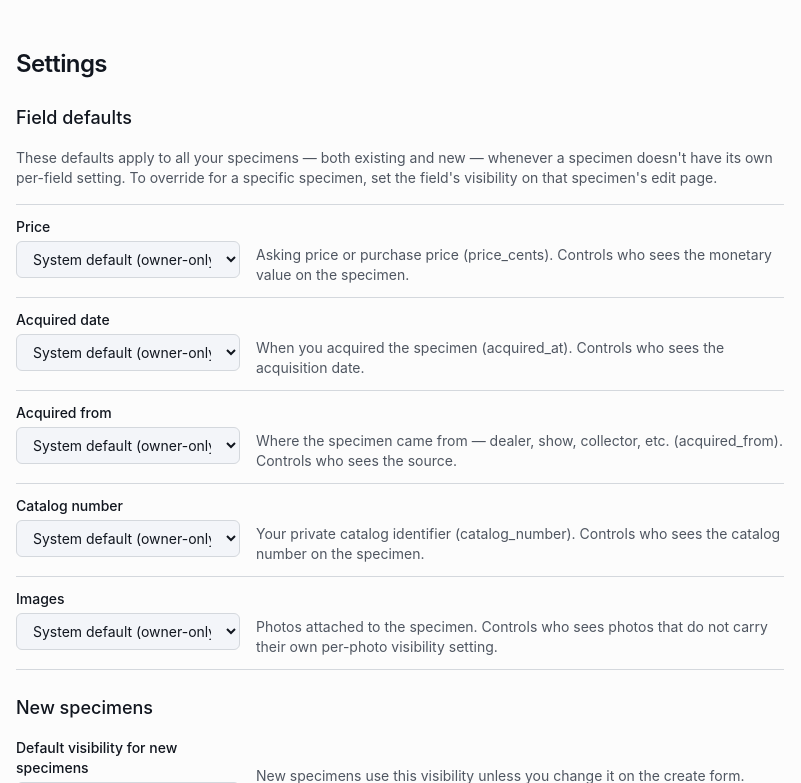
Settings route — field defaults › disables Save until a value changes, then PATCHes only the changed keys
The width and height of the screenshot is (801, 783).
Select "Public" in the dropdown with test id "settings-default-price" at (128, 260), box [16,241,240,278]
(page scrolled)
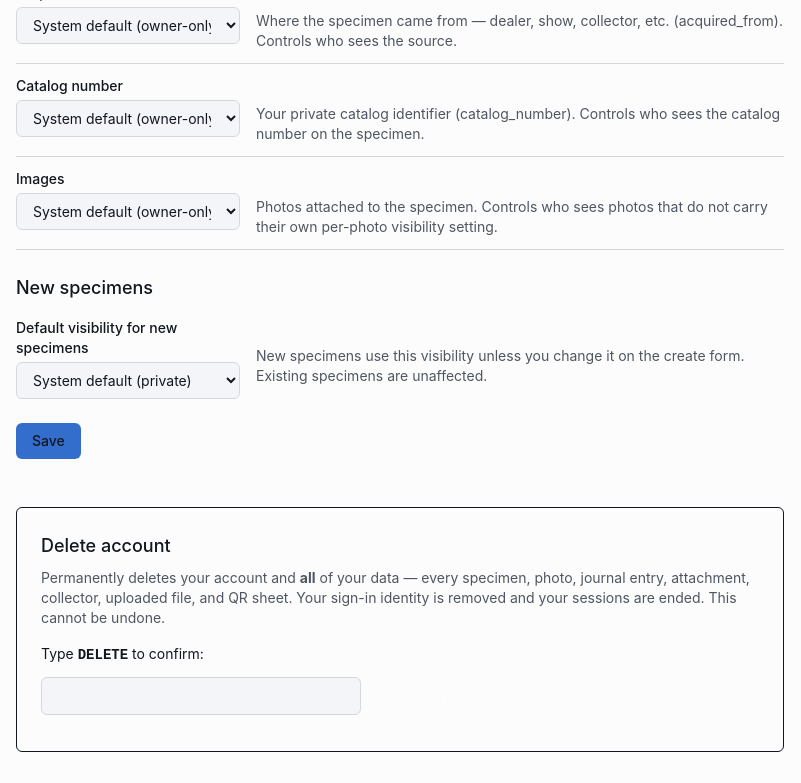
Now the button with test id "settings-field-defaults-save" is enabled
Click the button with test id "settings-field-defaults-save" at (48, 441), box [16,423,81,459]
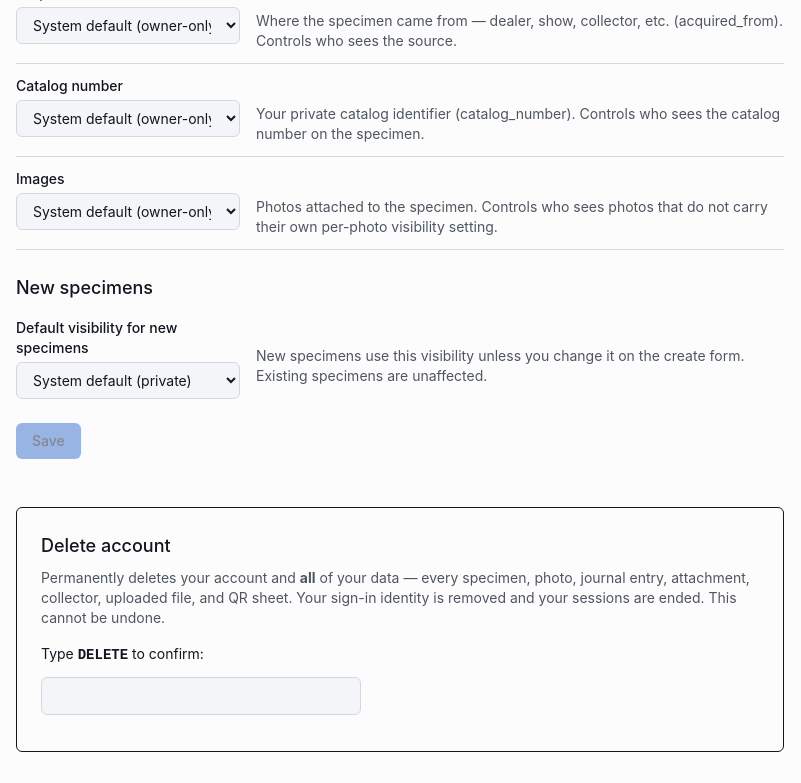
Now the button with test id "settings-field-defaults-save" is disabled, box [16,423,81,459]
